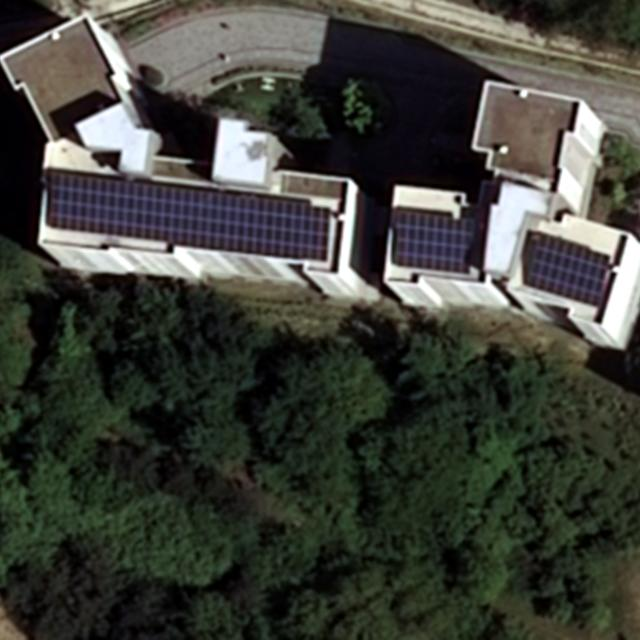panel: (43, 169, 331, 263), (391, 209, 480, 277), (529, 235, 611, 305)
